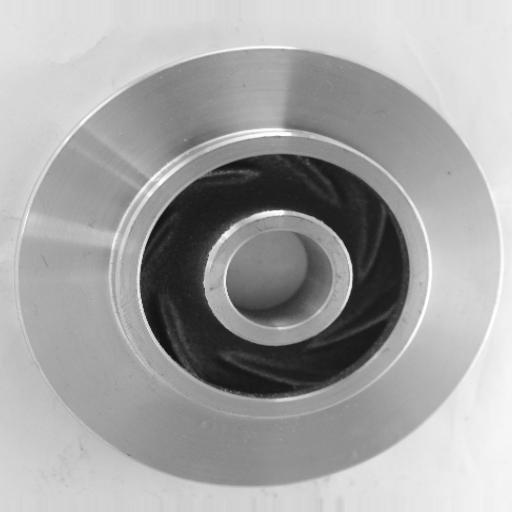polished_casting: (18, 41, 500, 489)
